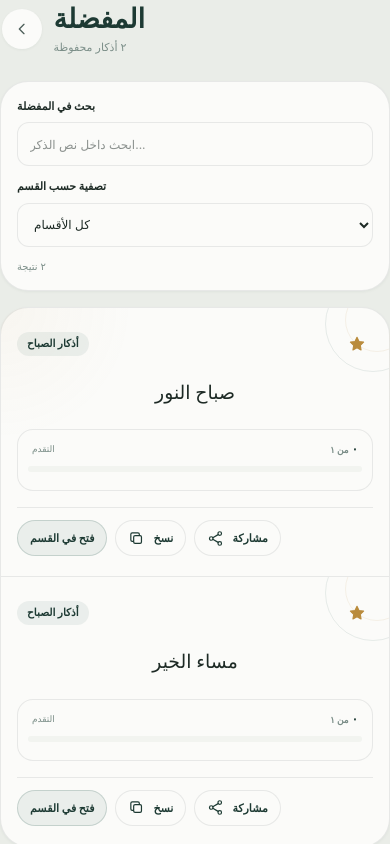
Scenario: feature views › searches favorites by zikr text
The width and height of the screenshot is (390, 844).
Type "صباح" into the field with placeholder "ابحث داخل نص الذكر..." at (195, 144), box [17, 122, 373, 166]
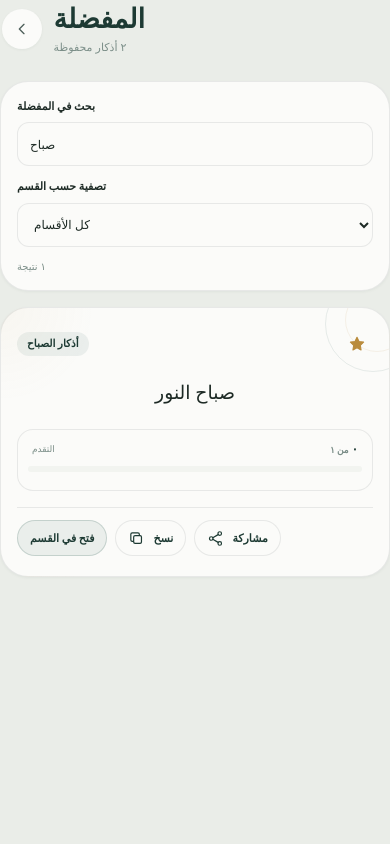
Expected: the text "صباح النور" is shown, [155, 382, 235, 403]
Result: the text "مساء الخير" is gone
